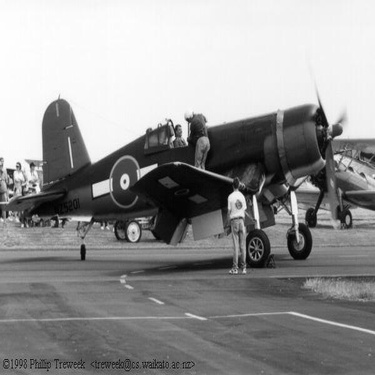airplane: (4, 53, 345, 269)
